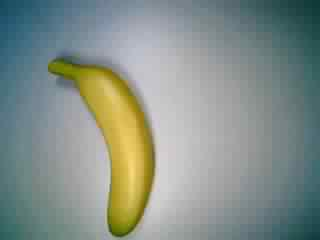banana: (43, 52, 160, 238)
